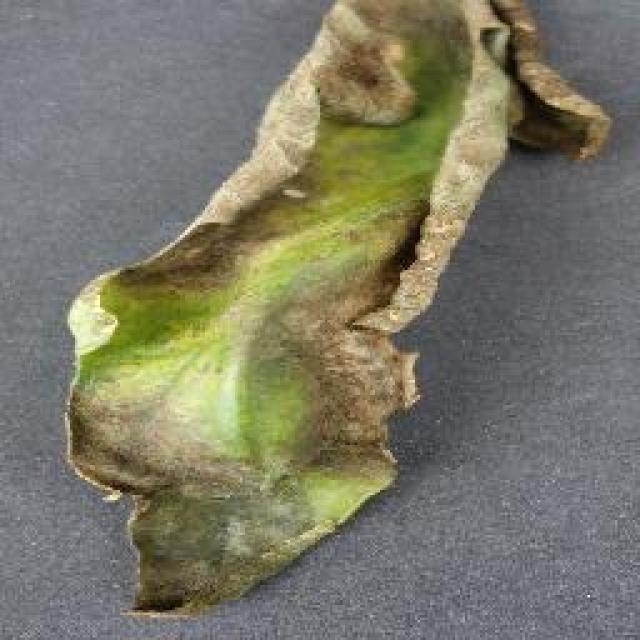Tomato Late Blight: (120, 9, 522, 558)
